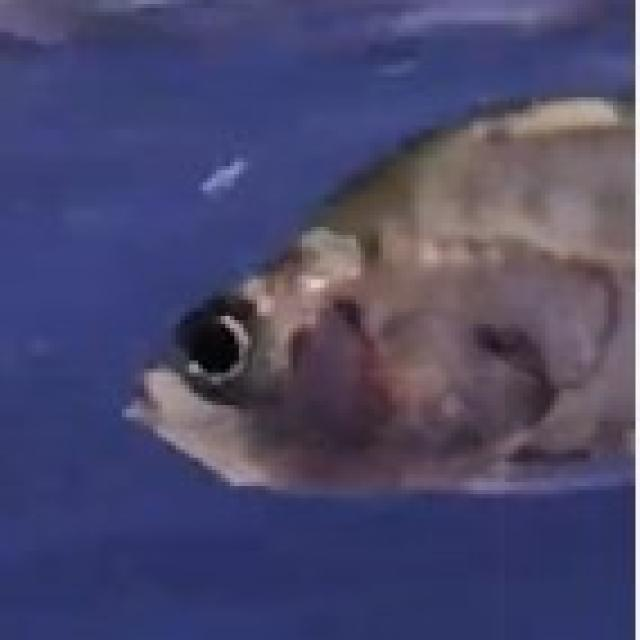Glass-Perchlet: (67, 60, 640, 575)
